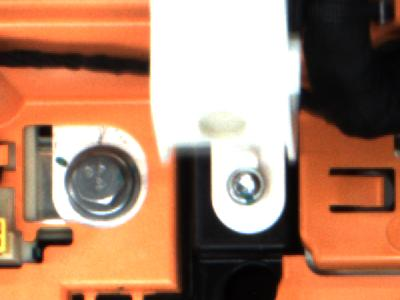nut_b: (59, 143, 142, 224)
screw_m: (223, 167, 268, 214)
